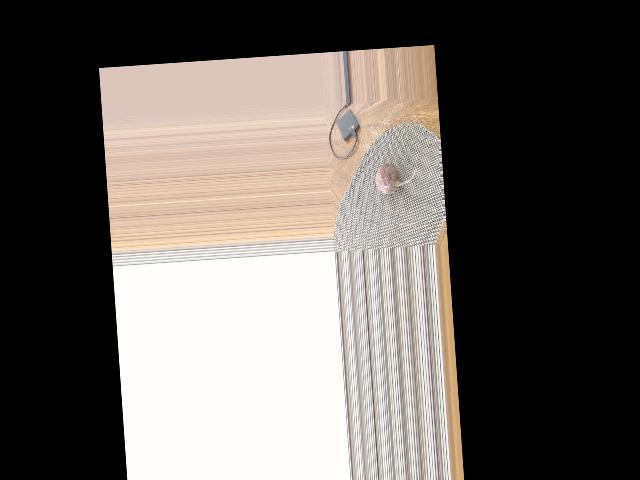beet: (375, 160, 417, 194)
